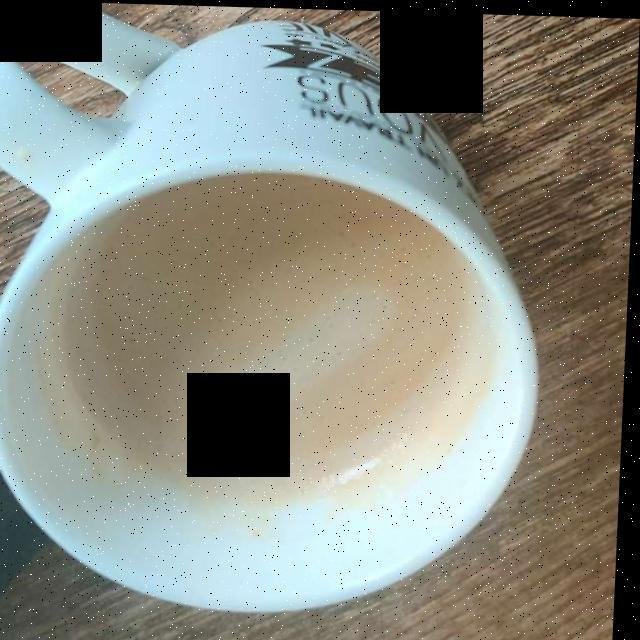coffee: (48, 174, 476, 524)
